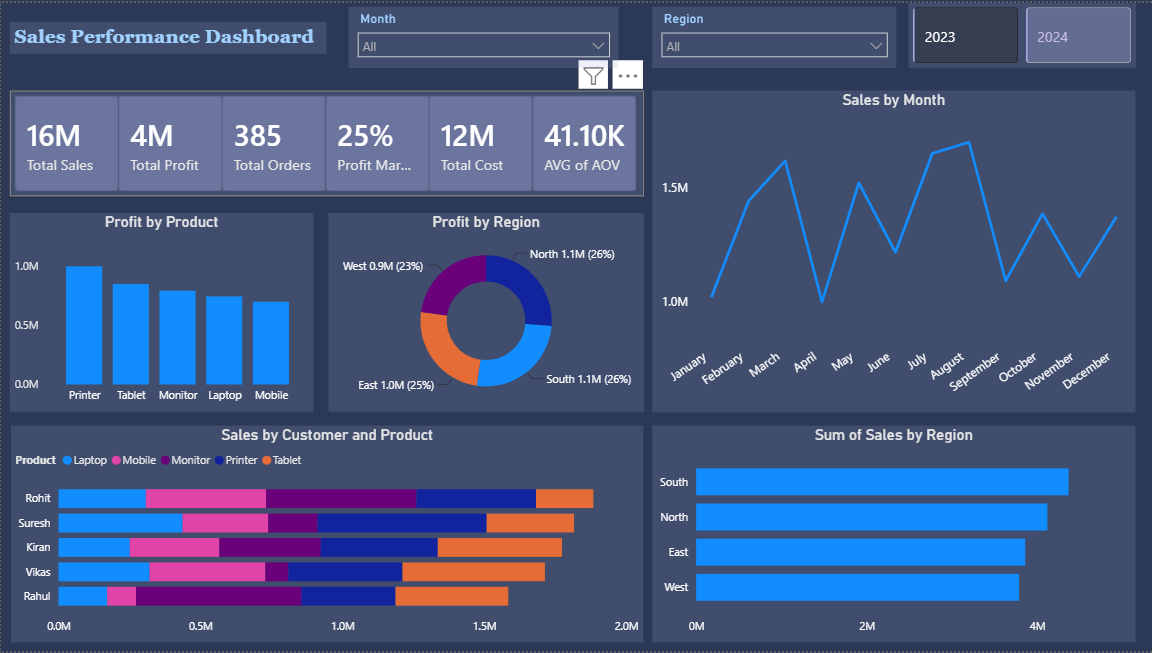

The dashboard page shown, as its layout file describes it:
{"tool":"powerbi","page":{"name":"Page 1","canvas":[1280,720],"ordinal":0},"visuals":[{"type":"textbox","box":[10.1,20.2,352,36.1],"z":0},{"type":"cardVisual","fields":{"Data":["Sum(sales_data sales_info.Sales)","Sum(sales_data sales_info.Profit)","CountNonNull(sales_data sales_info.Order_ID)","Avg(sales_data sales_info.% Of Profit)","Sum(sales_data sales_info.Cost)","Avg(sales_data sales_info.AOV)"]},"box":[10.1,96.7,704.1,118.3],"z":1000},{"type":"lineChart","fields":{"Y":["Sum(sales_data sales_info.Sales)"],"Category":["sales_data sales_info.Order_Date.Variation.Date Hierarchy.Month"]},"box":[724.3,96.7,536.7,357.8],"z":2000},{"type":"clusteredBarChart","fields":{"Category":["sales_data sales_info.Region"],"Y":["Sum(sales_data sales_info.Sales)"]},"box":[724.3,468.9,536.7,240.9],"z":3000},{"type":"donutChart","fields":{"Category":["sales_data sales_info.Region"],"Y":["Sum(sales_data sales_info.Profit)"]},"box":[363.6,233.7,350.6,220.7],"z":4000},{"type":"barChart","fields":{"Category":["sales_data sales_info.Customer"],"Y":["Sum(sales_data sales_info.Sales)"],"Series":["sales_data sales_info.Product"]},"box":[11.5,468.9,702.6,240.9],"z":5000},{"type":"columnChart","fields":{"Category":["sales_data sales_info.Product"],"Y":["Sum(sales_data sales_info.Profit)"]},"box":[10.1,233.7,337.6,220.7],"z":6000},{"type":"advancedSlicerVisual","fields":{"Values":["sales_data sales_info.Year"]},"box":[1008.5,0,252.5,72.1],"z":7000},{"type":"slicer","fields":{"Values":["sales_data sales_info.Region"]},"box":[724.3,4.3,271.2,67.8],"z":7001},{"type":"slicer","fields":{"Values":["sales_data sales_info.Order_Date.Variation.Date Hierarchy.Month"]},"box":[386.7,4.3,300.1,67.8],"z":7002}]}

Visuals, with their boxes in screenshot pixels (x1, y1, x2, y2), scaled from the page's 1280x720 canvas onto the 1152x653 screenshot:
textbox: left=9, top=18, right=326, bottom=51
cardVisual - Sum(sales_data sales_info.Sales) x Sum(sales_data sales_info.Profit): left=9, top=88, right=643, bottom=195
lineChart - Sum(sales_data sales_info.Sales) x sales_data sales_info.Order_Date.Variation.Date Hierarchy.Month: left=652, top=88, right=1135, bottom=412
clusteredBarChart - sales_data sales_info.Region x Sum(sales_data sales_info.Sales): left=652, top=425, right=1135, bottom=644
donutChart - sales_data sales_info.Region x Sum(sales_data sales_info.Profit): left=327, top=212, right=643, bottom=412
barChart - sales_data sales_info.Customer x Sum(sales_data sales_info.Sales): left=10, top=425, right=643, bottom=644
columnChart - sales_data sales_info.Product x Sum(sales_data sales_info.Profit): left=9, top=212, right=313, bottom=412
advancedSlicerVisual - sales_data sales_info.Year: left=908, top=0, right=1135, bottom=65
slicer - sales_data sales_info.Region: left=652, top=4, right=896, bottom=65
slicer - sales_data sales_info.Order_Date.Variation.Date Hierarchy.Month: left=348, top=4, right=618, bottom=65
